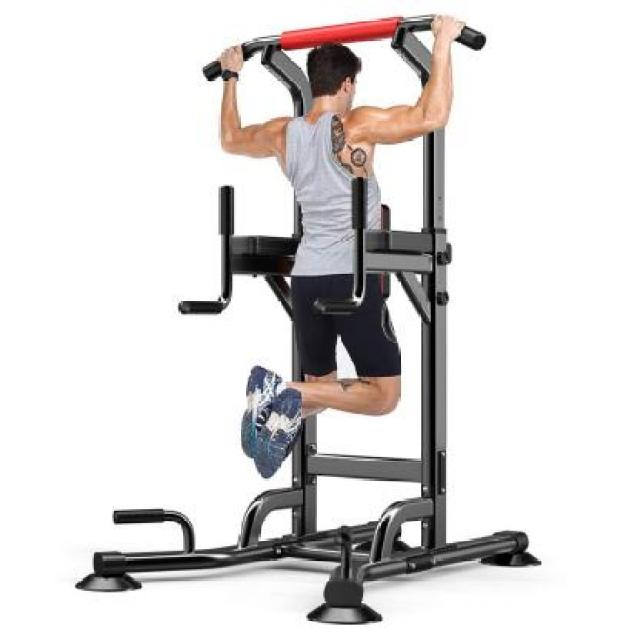chinning dipping: (76, 12, 542, 625)
